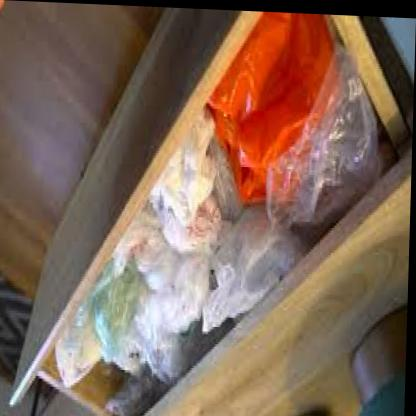Plastic: (201, 23, 382, 310), (63, 178, 224, 412)
